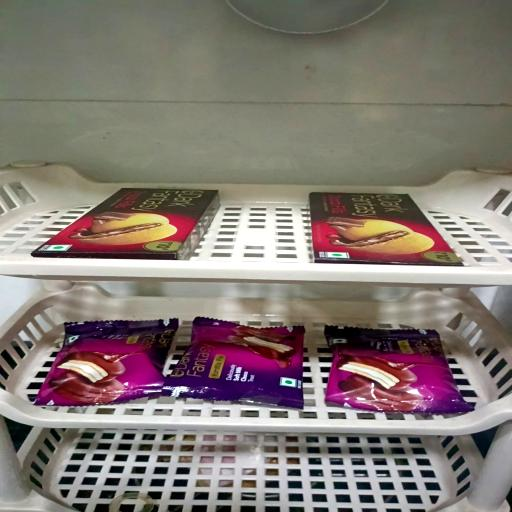Choco Fills: (32, 190, 217, 262), (309, 194, 463, 267)
Choco Pie: (324, 326, 472, 414), (166, 317, 304, 409), (35, 319, 178, 406)
